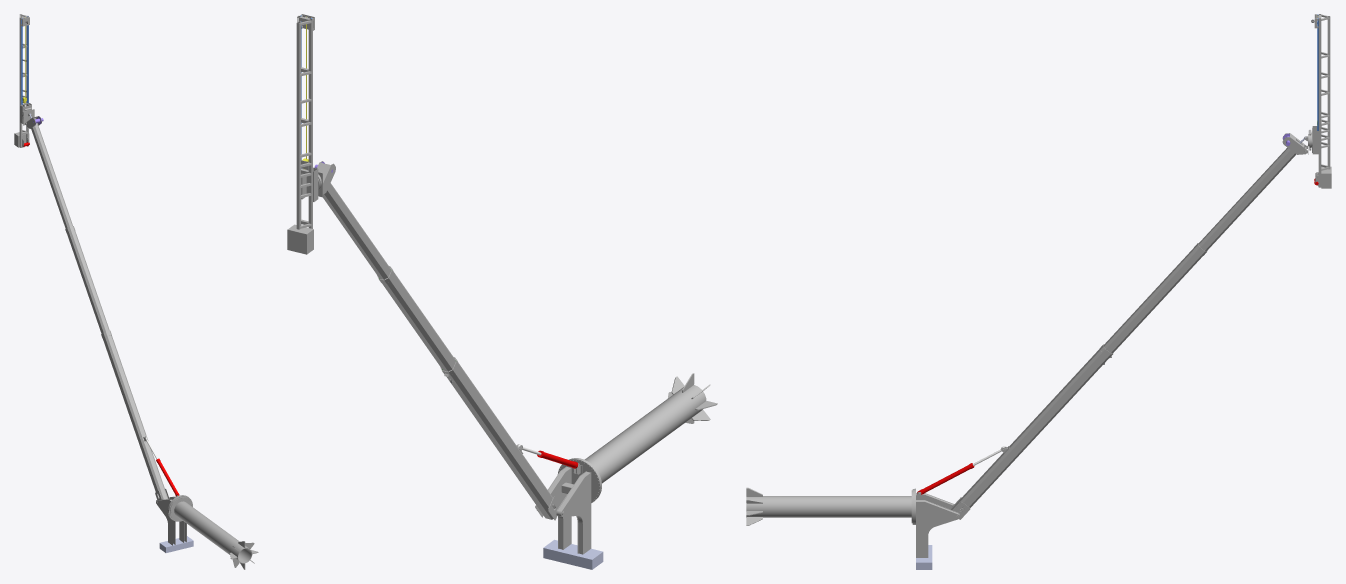
The model's file is 波浪补偿起重机.fbx.
3 views of the same model, side by side, from view 1: azimuth 30°, elevation 25°; view 2: azimuth 150°, elevation 25°; view 3: azimuth 270°, elevation 25° (orthographic). The views are drawn at different scales.
Parts seen in each view (by area): view 1: Í¹Ì¨-ÀÉì1 (×2), ÇÐ³ý-ÀÉì6, ÕóÁÐ(ÏßÐÔ)1, ÇÐ³ý-ÀÉì3, ÀÉì-±¡±Ú1, ÇÐ³ý-ÀÉì7; view 2: Í¹Ì¨-ÀÉì1 (×5), ÇÐ³ý-ÀÉì7, ÀÉì-±¡±Ú1 (×2), ÕóÁÐ(ÏßÐÔ)2, ÇÐ³ý-ÀÉì3, ÇÐ³ý-ÀÉì6; view 3: Í¹Ì¨-ÀÉì1 (×2), ÇÐ³ý-ÀÉì6, ÇÐ³ý-ÀÉì7, ÕóÁÐ(ÏßÐÔ)1, ÇÐ³ý-ÀÉì3.
Boxes of the visible parts, left/top/right/bottom form: Í¹Ì¨-ÀÉì1 (×2): left=159, top=501, right=252, bottom=563; ÇÐ³ý-ÀÉì6: left=104, top=335, right=168, bottom=499; ÕóÁÐ(ÏßÐÔ)1: left=68, top=230, right=109, bottom=332; ÇÐ³ý-ÀÉì3: left=32, top=118, right=72, bottom=227; ÀÉì-±¡±Ú1: left=19, top=17, right=22, bottom=147; ÇÐ³ý-ÀÉì7: left=103, top=338, right=159, bottom=498; Í¹Ì¨-ÀÉì1 (×5): left=287, top=224, right=706, bottom=569; ÇÐ³ý-ÀÉì7: left=440, top=365, right=554, bottom=519; ÀÉì-±¡±Ú1 (×2): left=296, top=18, right=312, bottom=229; ÕóÁÐ(ÏßÐÔ)2: left=377, top=275, right=453, bottom=379; ÇÐ³ý-ÀÉì3: left=323, top=187, right=389, bottom=279; ÇÐ³ý-ÀÉì6: left=454, top=357, right=555, bottom=508; Í¹Ì¨-ÀÉì1 (×2): left=746, top=496, right=959, bottom=557; ÇÐ³ý-ÀÉì6: left=951, top=344, right=1103, bottom=510; ÇÐ³ý-ÀÉì7: left=960, top=353, right=1112, bottom=511; ÕóÁÐ(ÏßÐÔ)1: left=1103, top=243, right=1198, bottom=350; ÇÐ³ý-ÀÉì3: left=1198, top=139, right=1298, bottom=248.
Bounding box in the file's own units: 202 × 2908 × 2831.
